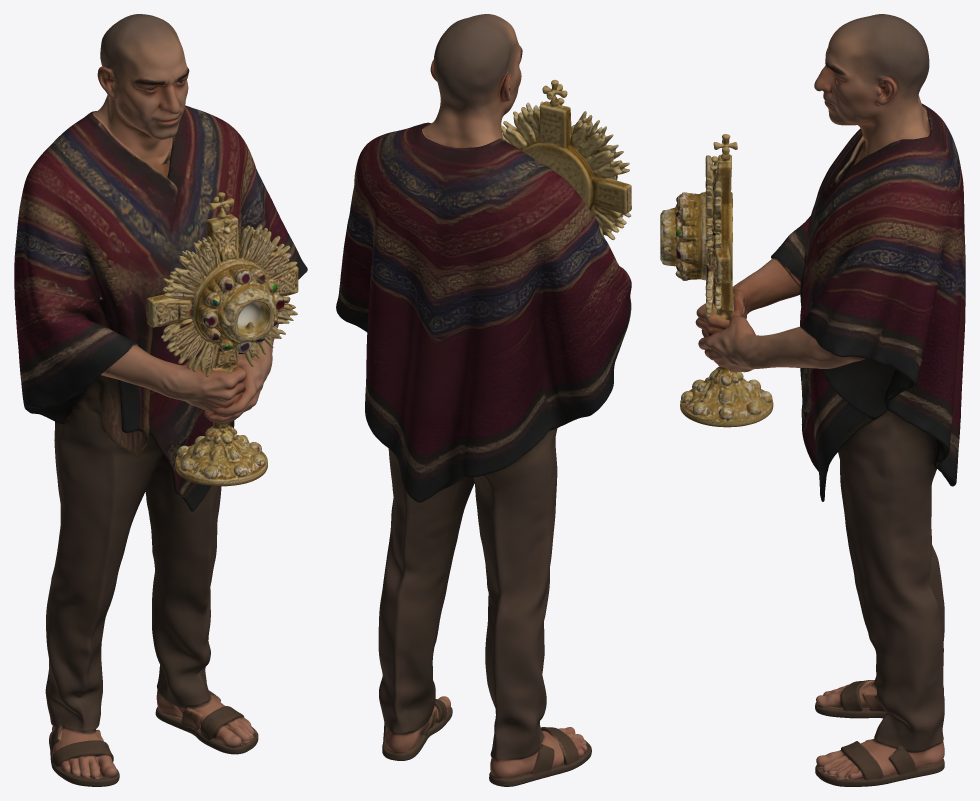
The model's file is 53-el-cambio-de-la-santa-custodia-2-optimized.glb.
The picture shows the model from 3 angles, left to right: view 1: azimuth 30°, elevation 25°; view 2: azimuth 150°, elevation 25°; view 3: azimuth 270°, elevation 25°; orthographic projection.
Parts seen in each view (by area): view 1: tripo_node_b78cfbd9-ecca-4f0b-92b7-a529c31065d3; view 2: tripo_node_b78cfbd9-ecca-4f0b-92b7-a529c31065d3; view 3: tripo_node_b78cfbd9-ecca-4f0b-92b7-a529c31065d3.
Part boxes in pixels (x1,y1,x2,y2): tripo_node_b78cfbd9-ecca-4f0b-92b7-a529c31065d3: (14,14,307,786); tripo_node_b78cfbd9-ecca-4f0b-92b7-a529c31065d3: (336,14,631,786); tripo_node_b78cfbd9-ecca-4f0b-92b7-a529c31065d3: (660,14,965,786).
Bounding box in the file's own units: 0.3914 × 1 × 0.382.
Materials: 1 (1 with a texture image).
